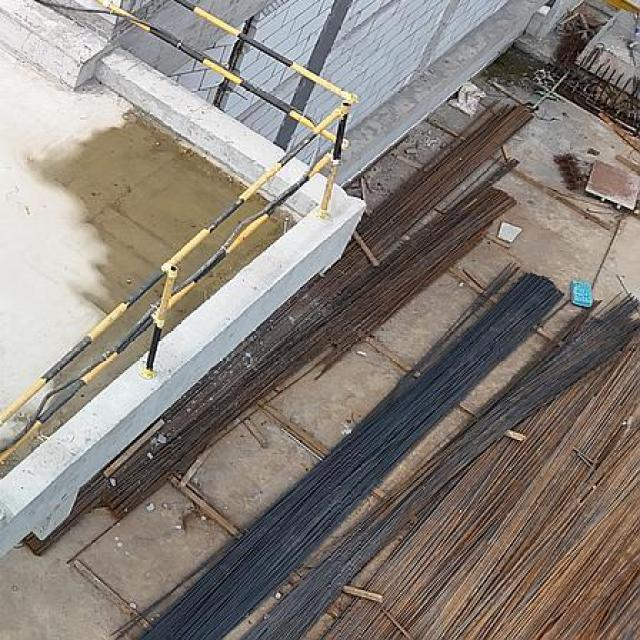Guardrail: (0, 0, 360, 466)
